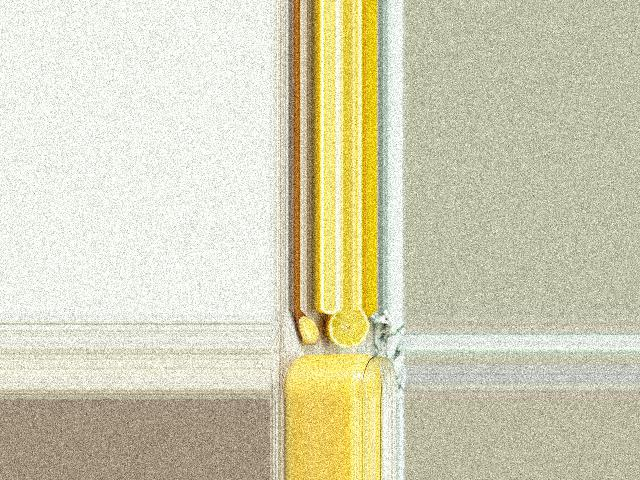lemon: (326, 311, 370, 347)
